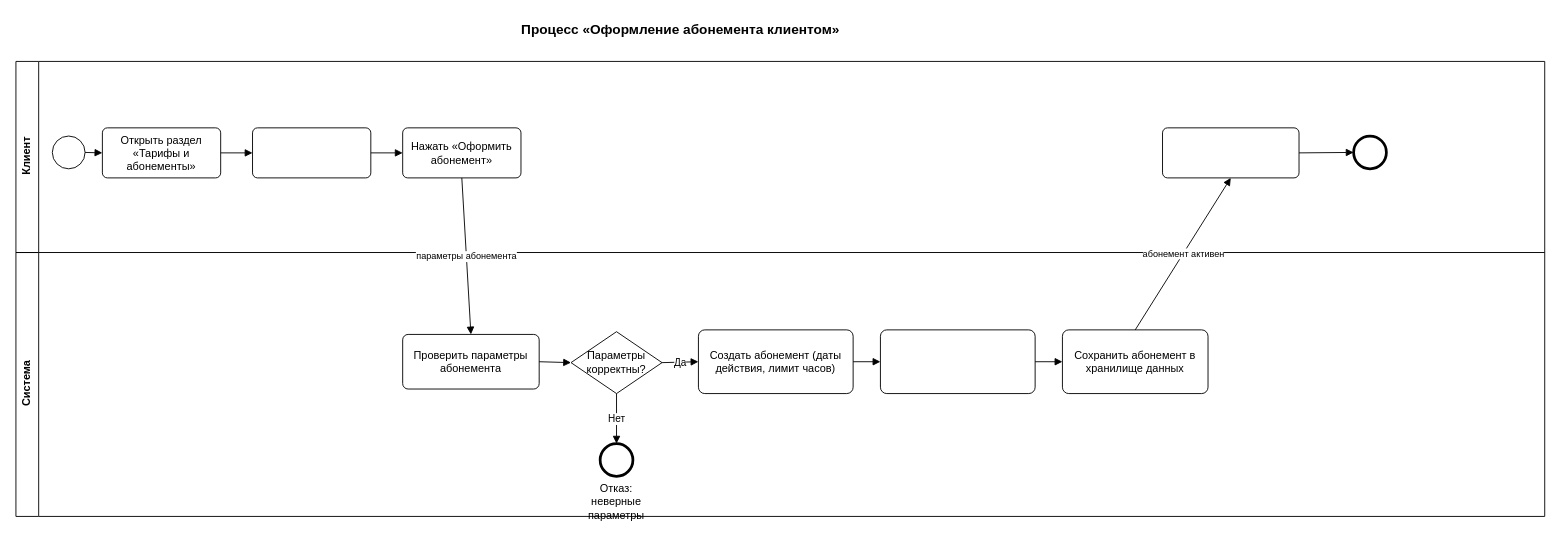
Some shapes in this 1561 by 537 pixel diagram are drawn without their labels. Here are the shapes that lost their labels. From the top down, the box of each, then its label:
(51, 135, 85, 169): Начало
(252, 127, 371, 178): Выбрать абонемент (период, места, лимит часов)
(1162, 127, 1299, 178): Просмотр активного абонемента
(1352, 134, 1387, 170): Абонемент оформлен
(880, 329, 1035, 394): Перевести клиента в режим «по абонементу»
